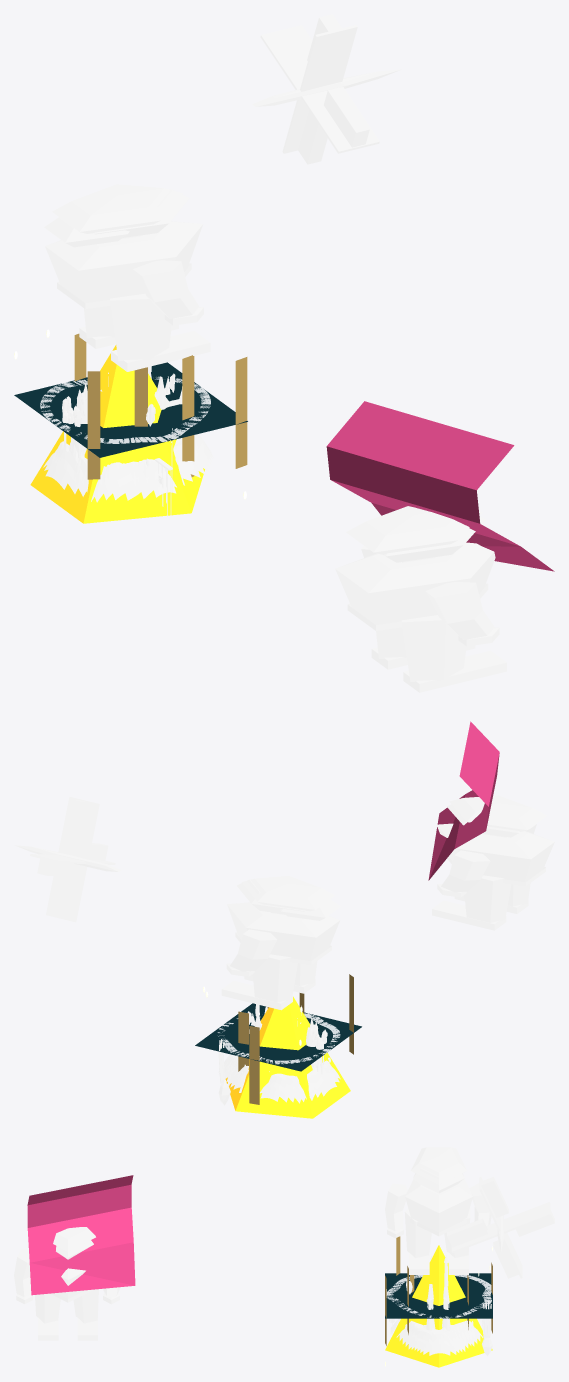
Rendered from ile-geants-v5-leger.glb.
The picture shows the model from 3 angles, top to bottom: view 1: azimuth 30°, elevation 25°; view 2: azimuth 150°, elevation 25°; view 3: azimuth 270°, elevation 25°; orthographic projection. The views are drawn at different scales.
Visible parts, largest first — view 1: ile_anime2.039, ile_anime1.039, ile_banniere0.025, ile_anime0.039, ile_lumieres.039, ile_corps.039, ile_libre0.037, ile_vitres.029; view 2: ile_anime2.039, ile_anime1.039, ile_lumieres.039, ile_anime0.039, ile_banniere0.025, ile_corps.039, ile_libre0.037, ile_vitres.029; view 3: ile_banniere0.025, ile_anime2.039, ile_anime1.039, ile_anime0.039, ile_libre0.037, ile_corps.039, ile_lumieres.039, ile_vitres.029.
Part boxes in pixels (x1=…): ile_anime2.039: x1=44, y1=184, x2=210, y2=371; ile_anime1.039: x1=335, y1=506, x2=506, y2=692; ile_banniere0.025: x1=326, y1=401, x2=554, y2=571; ile_anime0.039: x1=252, y1=14, x2=401, y2=164; ile_lumieres.039: x1=14, y1=329, x2=246, y2=523; ile_corps.039: x1=43, y1=366, x2=213, y2=516; ile_libre0.037: x1=14, y1=362, x2=247, y2=457; ile_vitres.029: x1=74, y1=333, x2=247, y2=479; ile_anime2.039: x1=221, y1=876, x2=340, y2=1010; ile_anime1.039: x1=432, y1=795, x2=554, y2=930; ile_lumieres.039: x1=203, y1=986, x2=350, y2=1118; ile_anime0.039: x1=15, y1=796, x2=121, y2=922; ile_banniere0.025: x1=428, y1=721, x2=499, y2=880; ile_corps.039: x1=218, y1=1004, x2=340, y2=1105; ile_libre0.037: x1=195, y1=1003, x2=361, y2=1071; ile_vitres.029: x1=238, y1=974, x2=353, y2=1104; ile_banniere0.025: x1=27, y1=1175, x2=135, y2=1295; ile_anime2.039: x1=385, y1=1147, x2=491, y2=1274; ile_anime1.039: x1=14, y1=1227, x2=119, y2=1340; ile_anime0.039: x1=447, y1=1177, x2=554, y2=1278; ile_libre0.037: x1=385, y1=1273, x2=492, y2=1318; ile_corps.039: x1=386, y1=1253, x2=492, y2=1355; ile_lumieres.039: x1=385, y1=1245, x2=492, y2=1367; ile_vitres.029: x1=385, y1=1236, x2=492, y2=1345.
Bounding box in the file's own units: 5.34 × 4.89 × 10.02.
